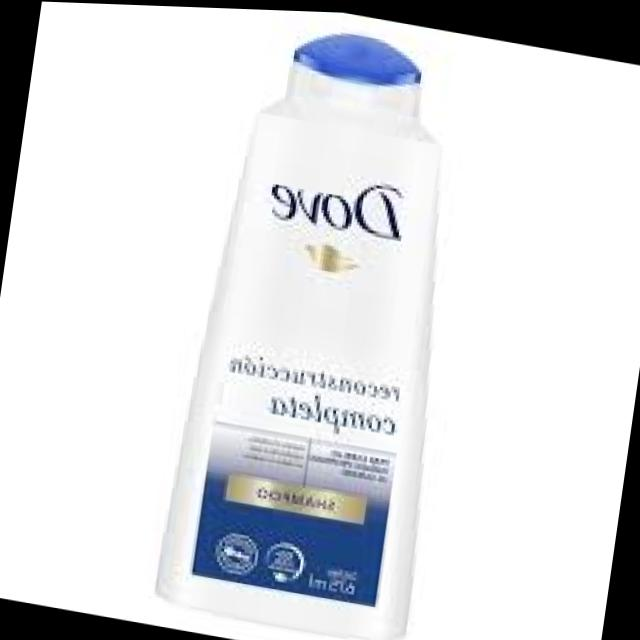Botella: (150, 6, 484, 640)
